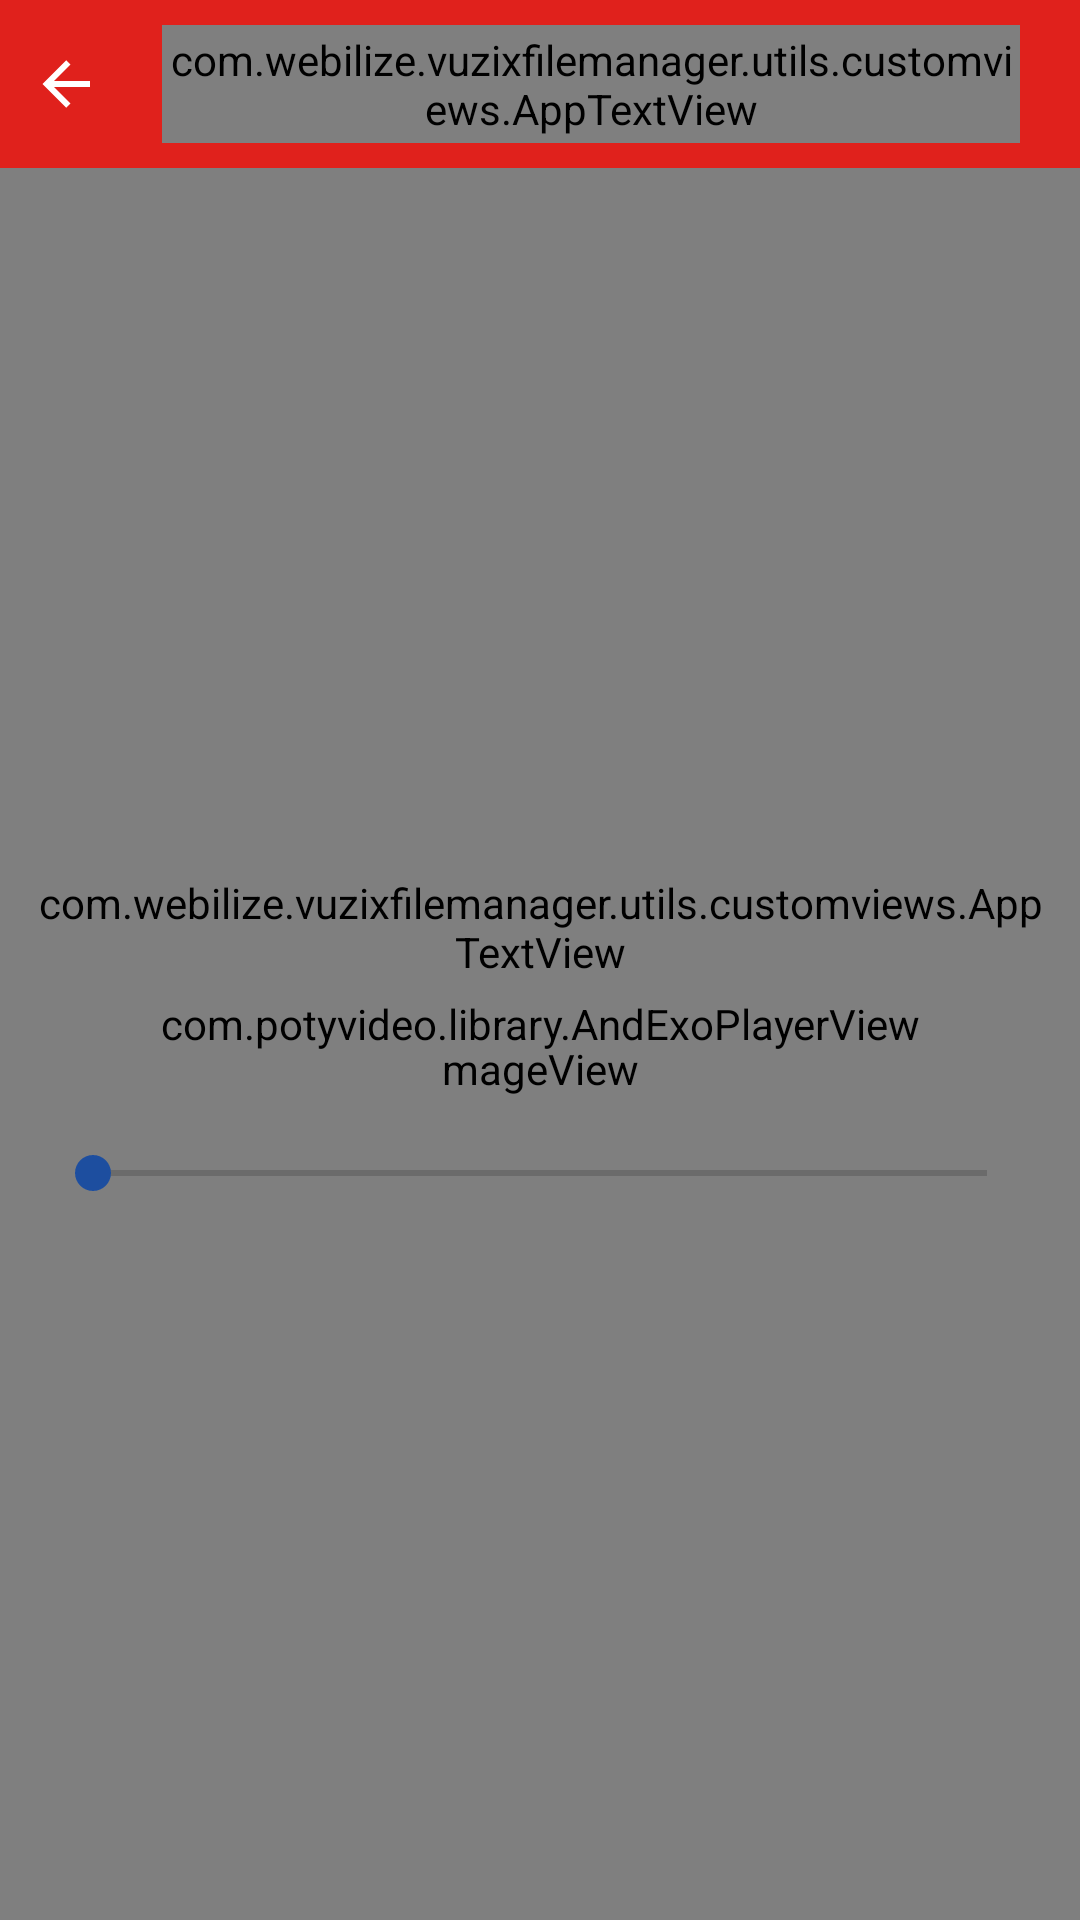

Locate icon controls on the screen. Image size 1080w x 1920h, boxes as box(x1, y1, x2, y2).
back: box(42, 60, 90, 108)
